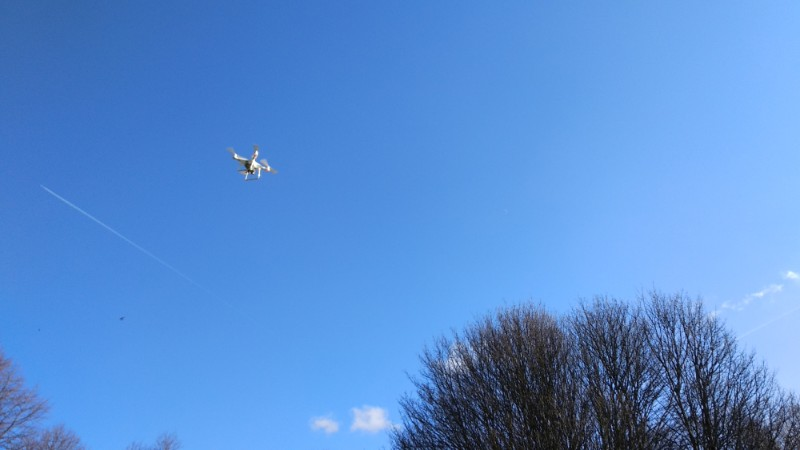drone: (222, 144, 281, 182)
